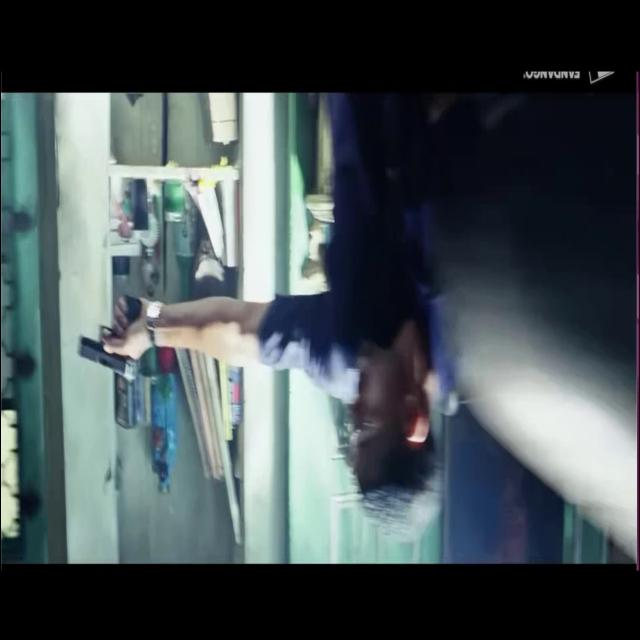weapons: (68, 275, 155, 403)
